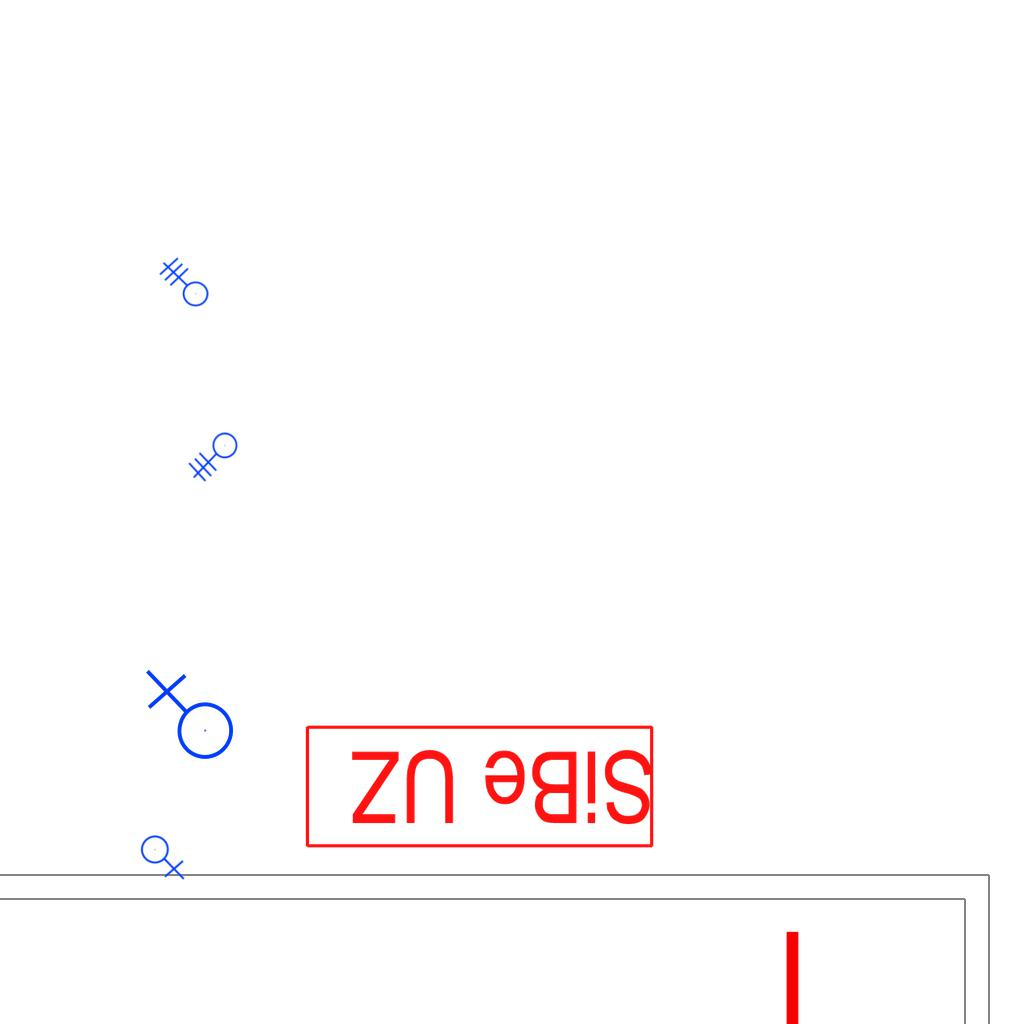ASR_Ansaugoeffnung: (767, 926, 813, 1024)
Elektroanschluss_allgemein_230V_Geraeteanschlussdose_230V: (141, 669, 235, 768), (140, 831, 187, 880)
Elektroanschluss_allgemein_400V_Geraeteanschlussdose_400V: (188, 432, 246, 488), (153, 257, 209, 315)
Zentrale_Sicherheitsbeleuchtung: (300, 721, 657, 851)
